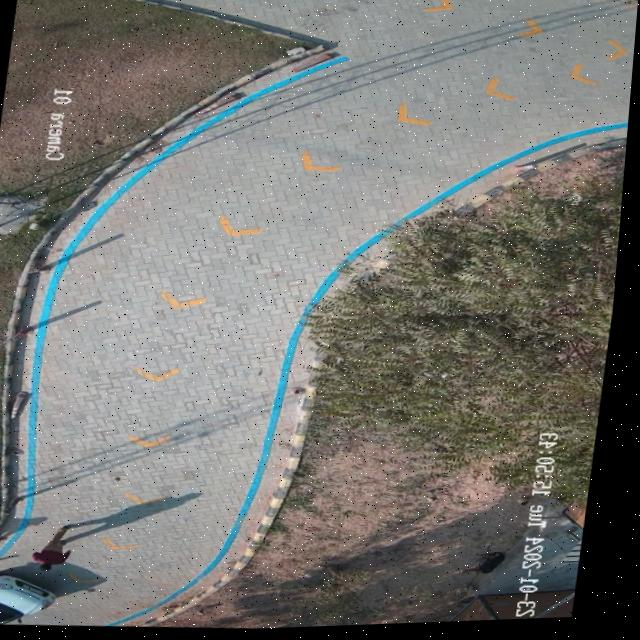car: (0, 575, 66, 625)
